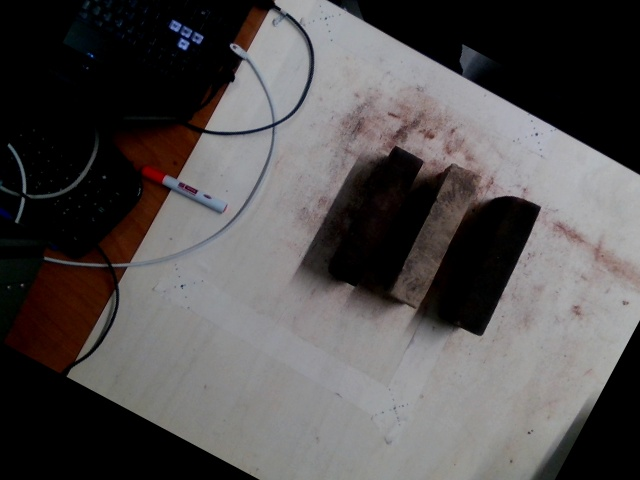brick-side: (331, 145, 425, 284), (391, 166, 478, 307), (457, 198, 540, 338)
